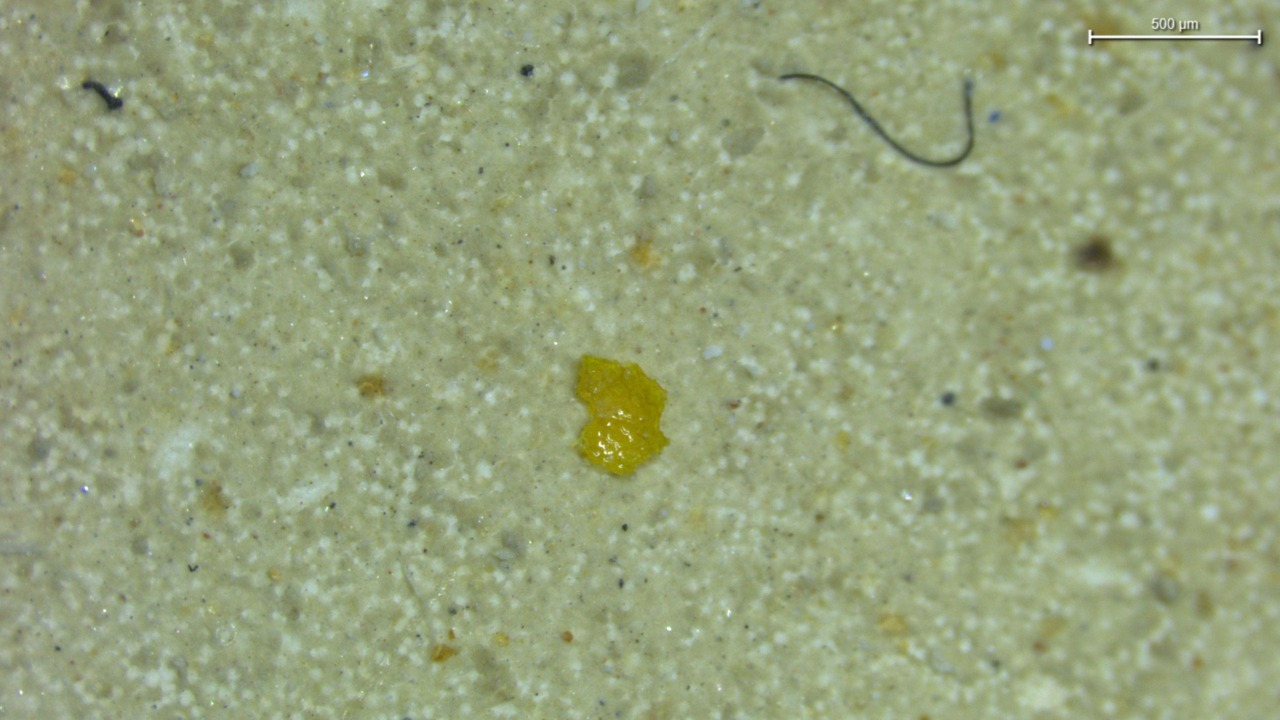microplastic_fragment: (577, 355, 667, 475)
